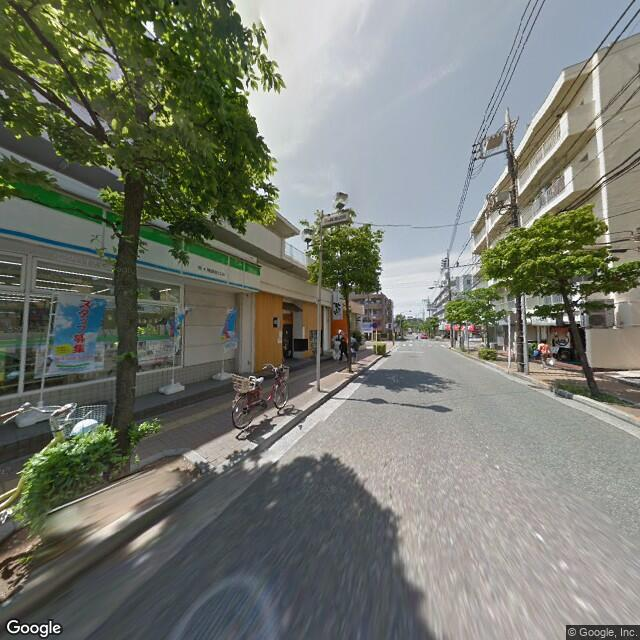family_mart: (1, 174, 261, 293)
